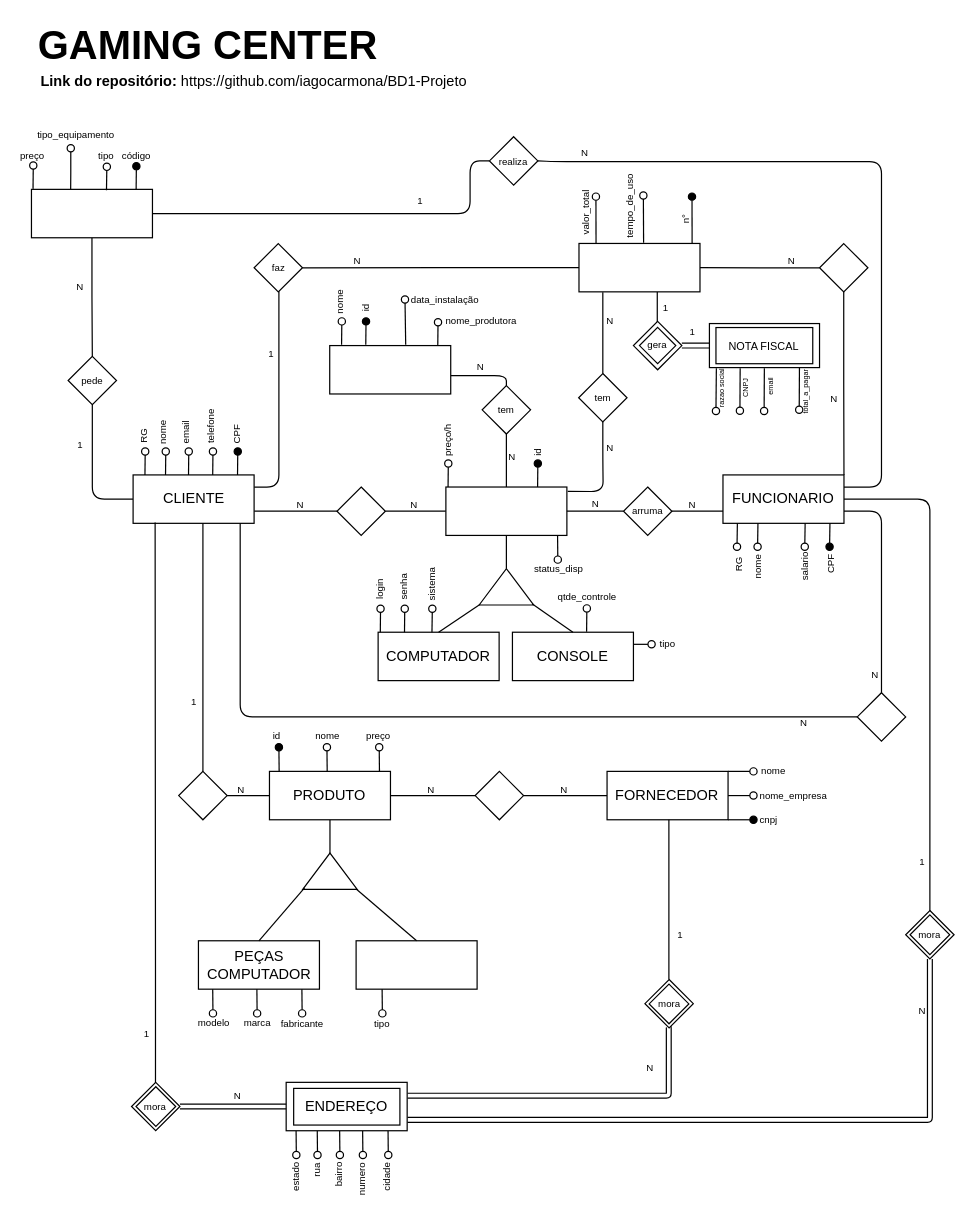
Some shapes in this 975 by 1221 pixel diagram are drawn without their labels. The centre of each missing label's shape, as x and y in pixels:
ACESSÓRIOS: the point at 416,964
atende: the point at 881,716
compra: the point at 202,795
EQUIPAMENTO: the point at 506,510
fornece: the point at 499,795
gerencia: the point at 843,267
JOGO: the point at 390,369
PEDIDO: the point at 639,267
REPARO: the point at 91,213
utiliza: the point at 360,510
